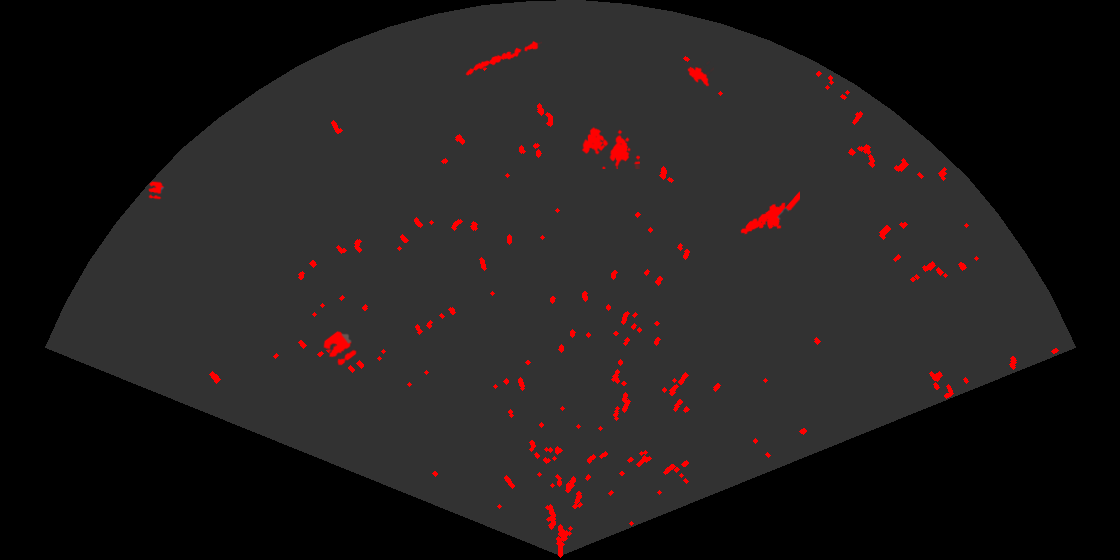AUV: (686, 60, 714, 88)
ball: (322, 329, 358, 367), (147, 180, 166, 201)
cage: (580, 125, 640, 169)
chain: (464, 39, 542, 77)
frogman: (739, 190, 800, 236)
